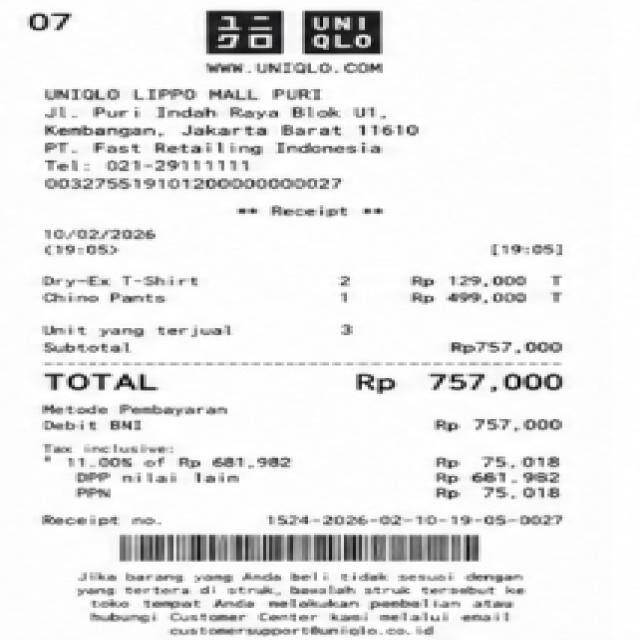date: (36, 224, 172, 261)
store: (197, 5, 391, 58), (36, 82, 332, 104)
total: (36, 369, 576, 396)
